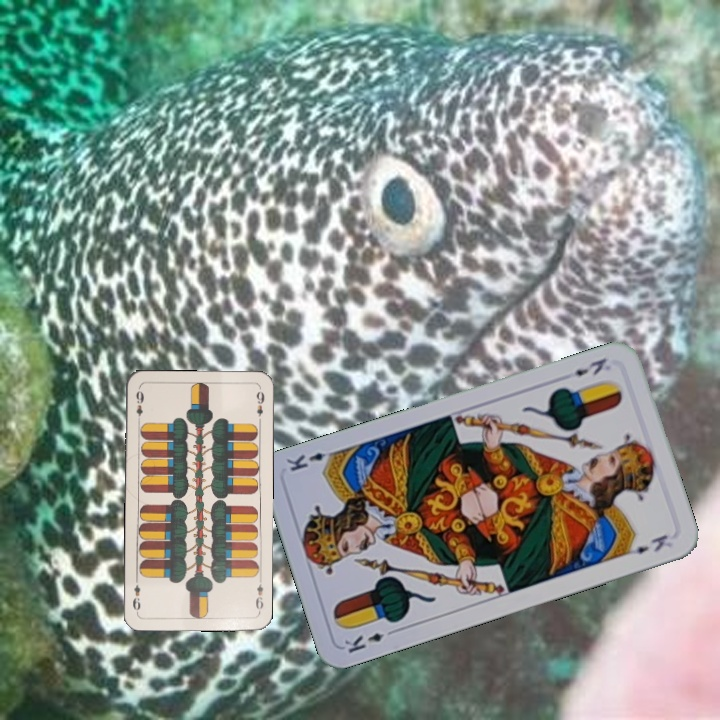E9: (251, 574, 266, 615), (132, 385, 146, 426)
EK: (340, 625, 399, 656), (570, 353, 610, 379)
